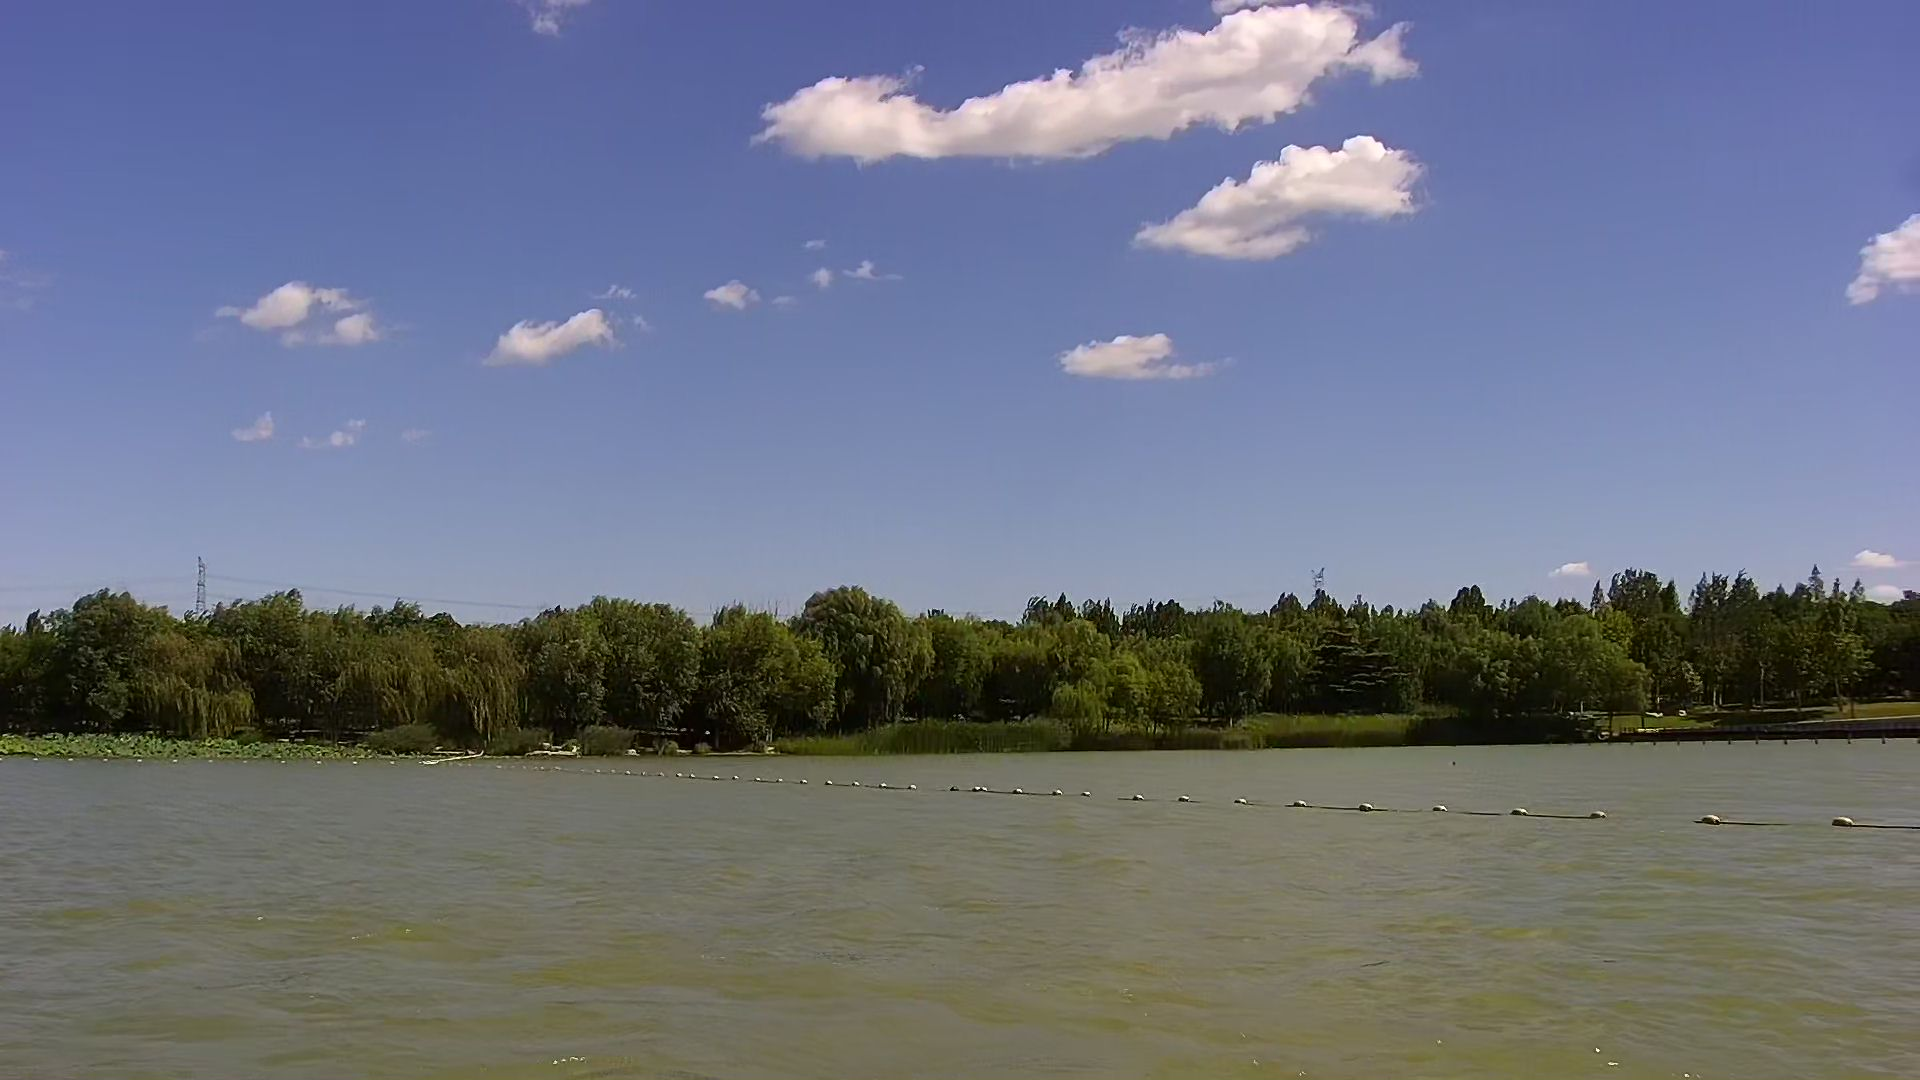ball: (1821, 800, 1862, 840), (1689, 798, 1729, 837), (1578, 796, 1623, 828), (1505, 793, 1542, 829), (1352, 789, 1389, 822), (1427, 793, 1451, 816)
